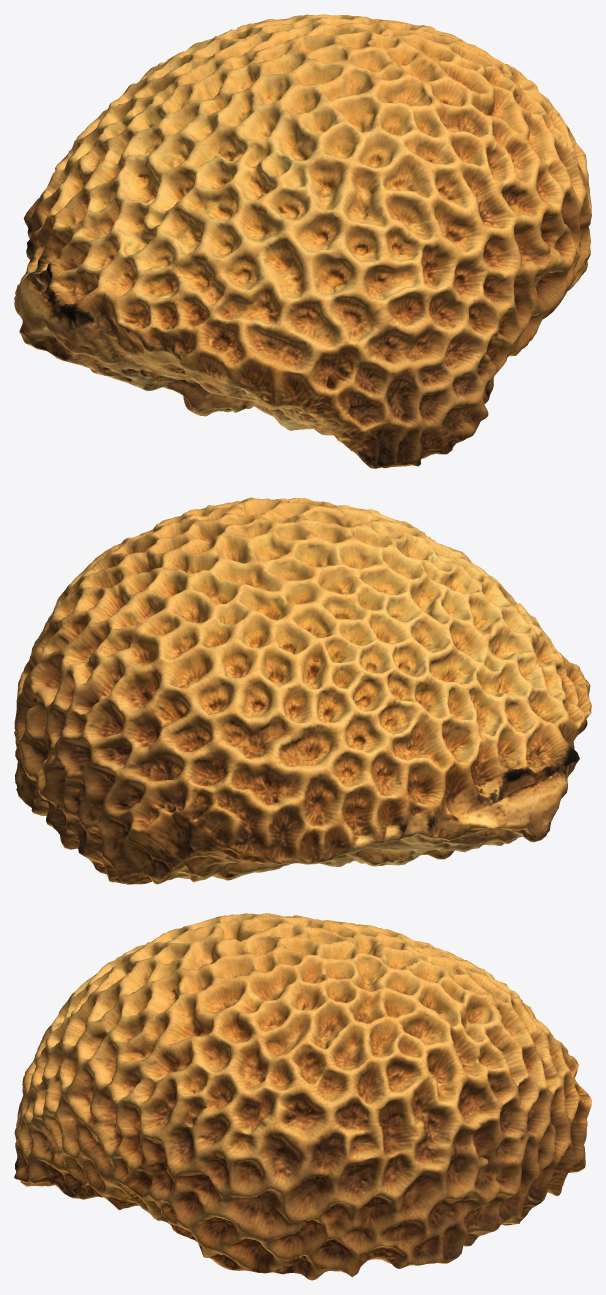
Rendered from Astraea (Fissicella) favistella.fbx.
3 renders of one model, top to bottom at view 1: azimuth 30°, elevation 25°; view 2: azimuth 150°, elevation 25°; view 3: azimuth 270°, elevation 25°, orthographic. The views are drawn at different scales.
Visible parts, largest first — view 1: Mesh_0; view 2: Mesh_0; view 3: Mesh_0.
Part boxes in pixels (x1,y1,x2,y2): Mesh_0: (14, 14, 591, 468); Mesh_0: (14, 497, 591, 884); Mesh_0: (14, 913, 591, 1280).
Size of the model in its own units: 1132 by 684 by 1177.
1 material, 1 textured.
